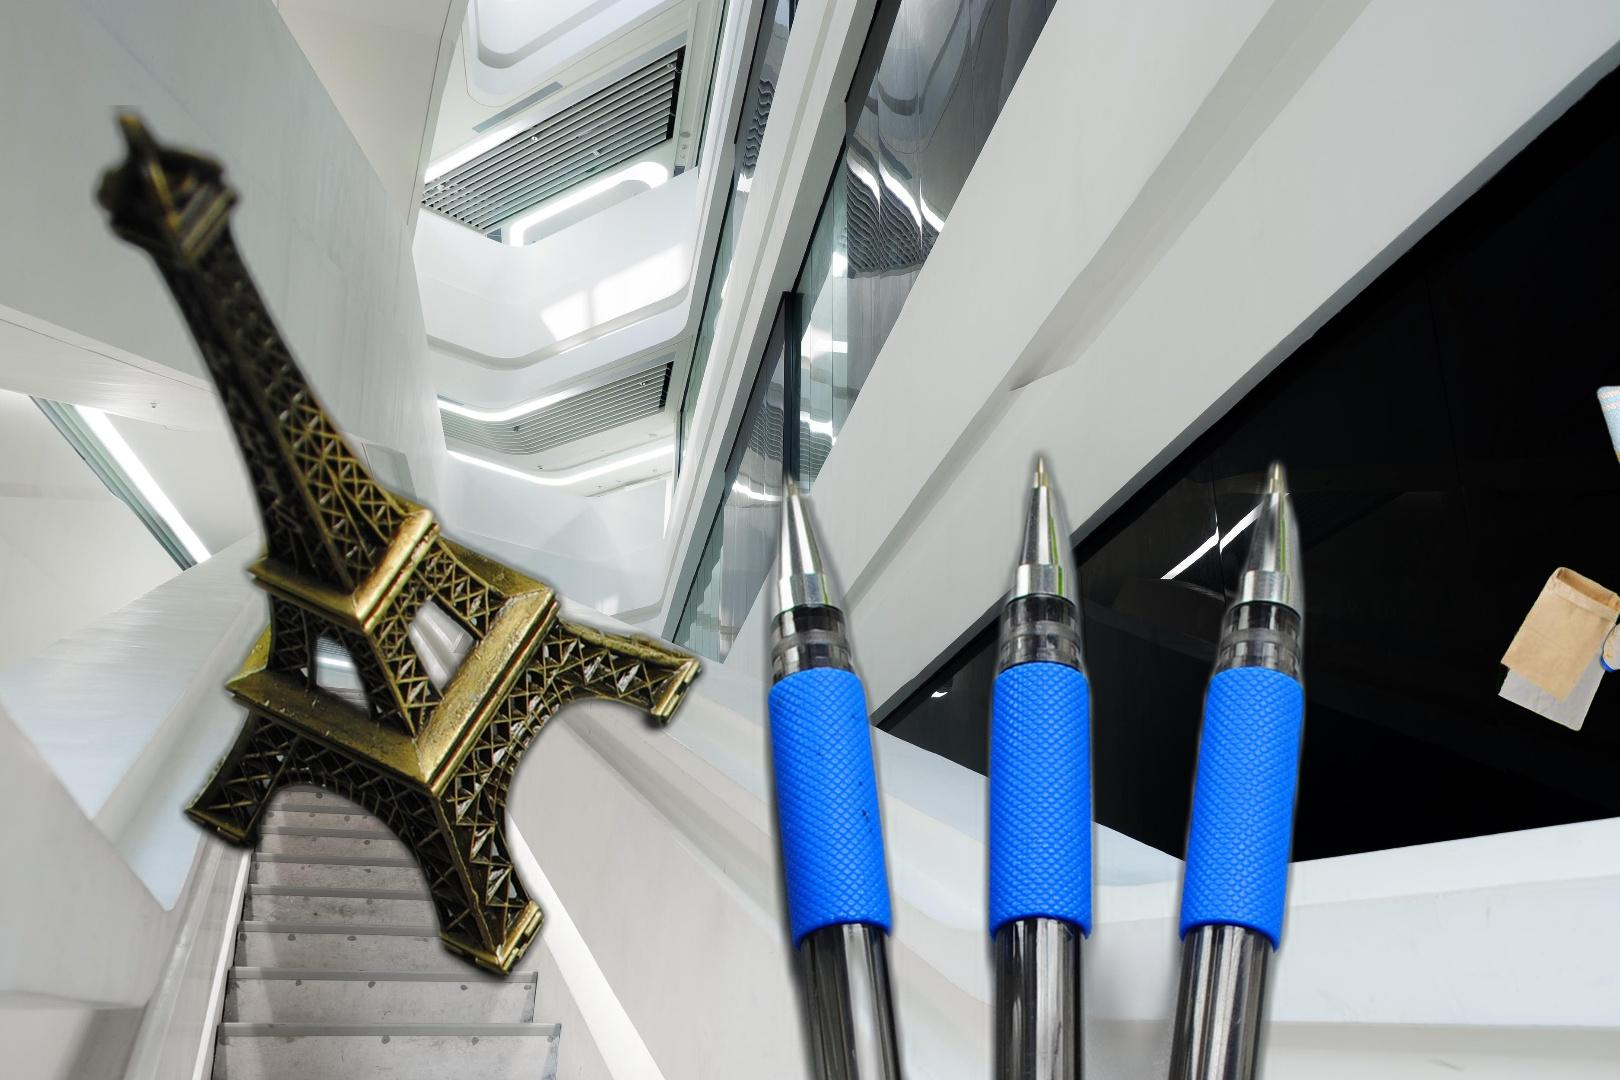paper-bag: (1493, 564, 1620, 734)
penholder: (75, 105, 1323, 1080)
plastic-bottles: (1592, 370, 1620, 708)
